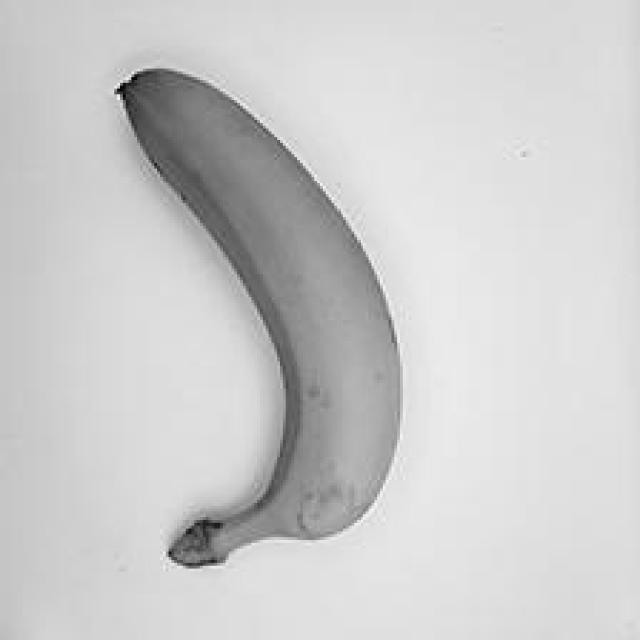Unripe: (73, 46, 434, 584)
